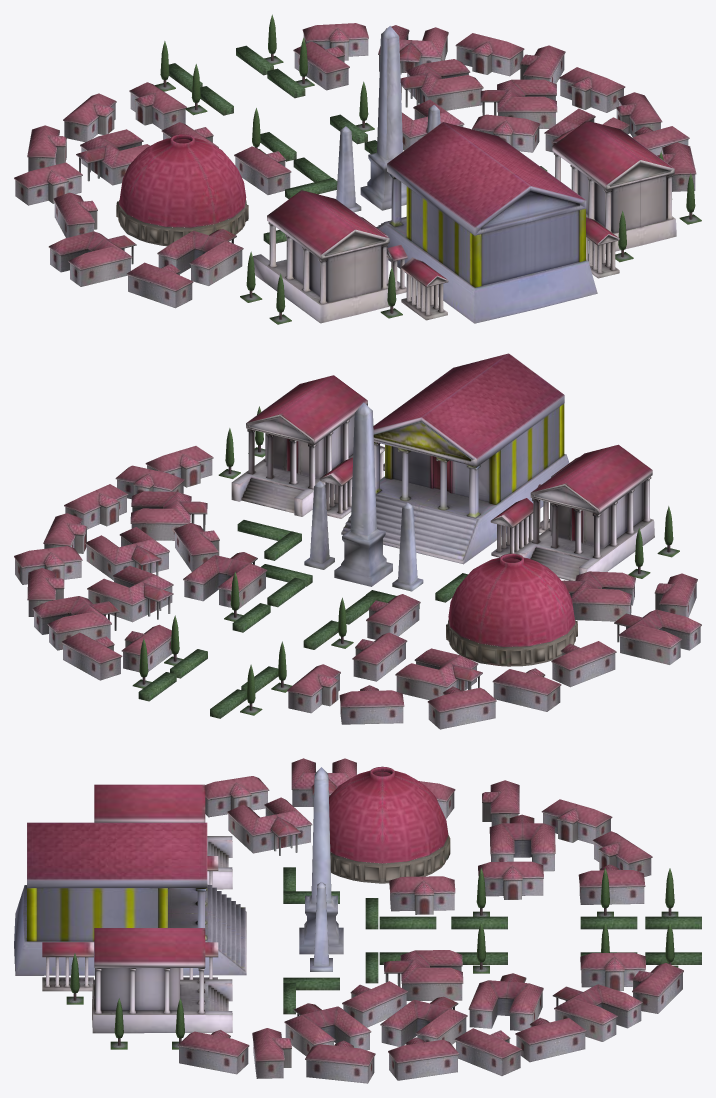
File: city_roman_capital.glb
3 renders of one model, top to bottom at view 1: azimuth 30°, elevation 25°; view 2: azimuth 150°, elevation 25°; view 3: azimuth 270°, elevation 25°, orthographic. The views are drawn at different scales.
Parts seen in each view (by area): view 1: capital city_02; view 2: capital city_02; view 3: capital city_02.
Part boxes in pixels (box(x1,y1,x2,y2)): capital city_02: box(14, 14, 701, 324); capital city_02: box(14, 353, 701, 729); capital city_02: box(14, 758, 701, 1083).
Bounding box in the file's own units: 24.2 × 6.68 × 23.25.
7 materials, 7 textured.
